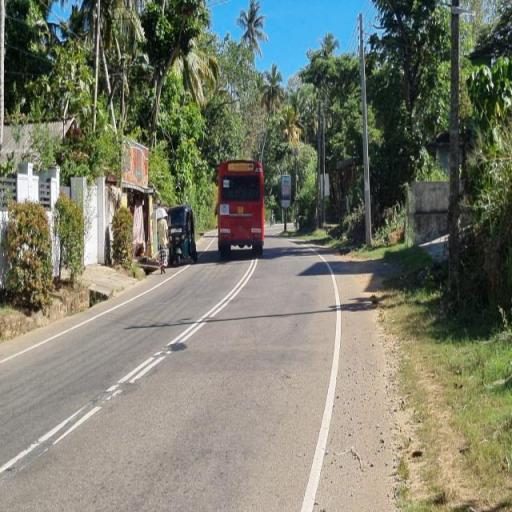double_white_line: (106, 258, 260, 400)
